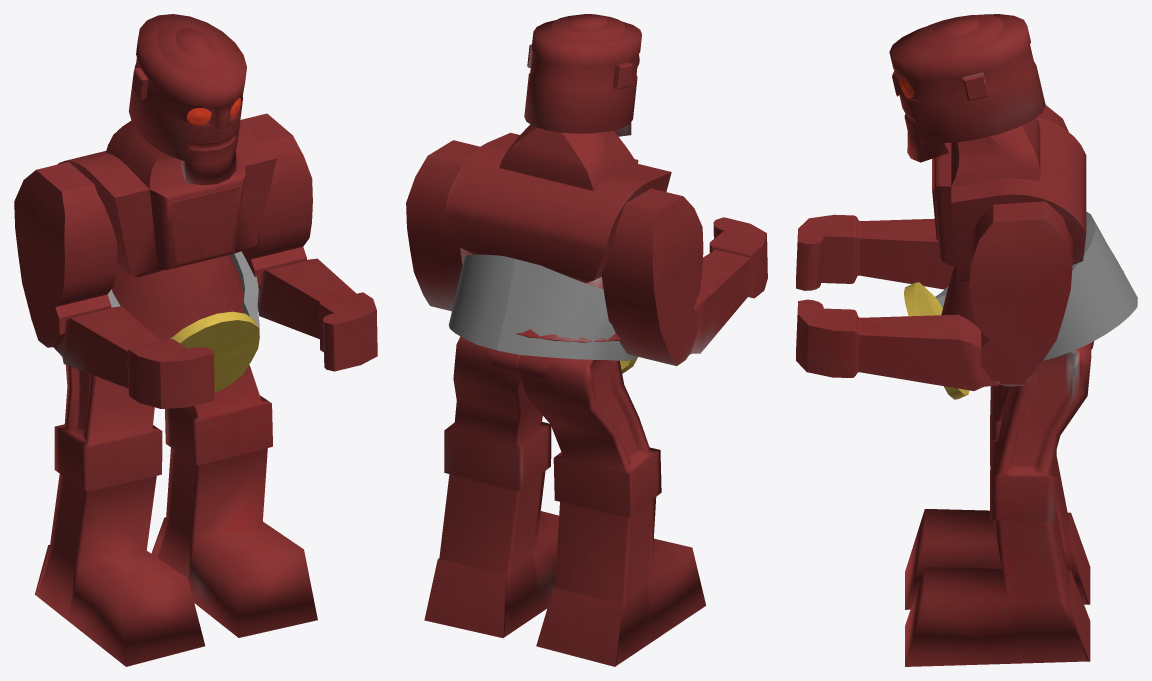
Rendered from Enemy_Finished_1.fbx.
The picture shows the model from 3 angles, left to right: view 1: azimuth 30°, elevation 25°; view 2: azimuth 150°, elevation 25°; view 3: azimuth 270°, elevation 25°; orthographic projection.
Parts seen in each view (by area): view 1: Right_arm1; view 2: Right_arm1; view 3: Right_arm1.
Part boxes in pixels (<box>): Right_arm1: <box>14,14,377,666</box>; Right_arm1: <box>406,14,767,666</box>; Right_arm1: <box>796,14,1137,666</box>.
Bounding box in the file's own units: 4.62 × 10.49 × 5.45.
